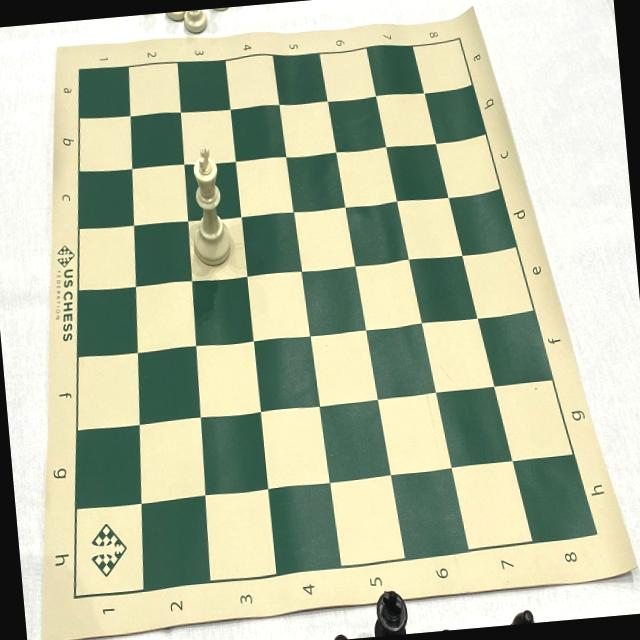white-king: (182, 141, 236, 271)
